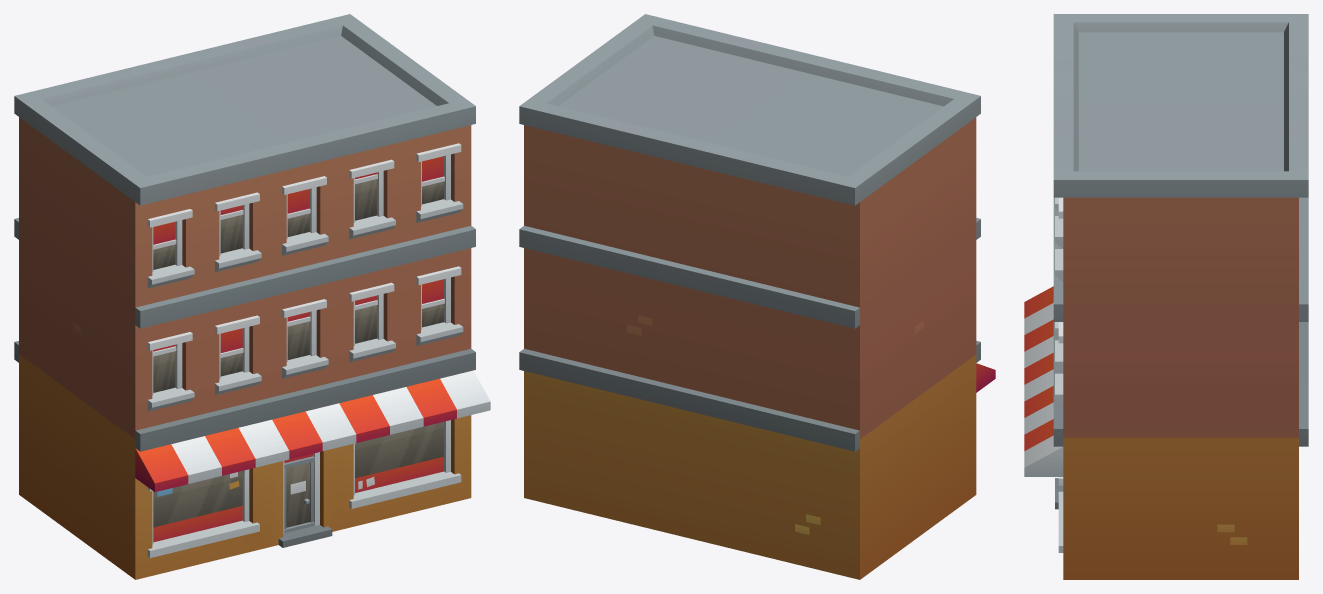
Rendered from building_E_withoutBase.glb.
The picture shows the model from 3 angles, left to right: view 1: azimuth 30°, elevation 25°; view 2: azimuth 150°, elevation 25°; view 3: azimuth 270°, elevation 25°; orthographic projection.
Parts seen in each view (by area): view 1: building_E_withoutBase; view 2: building_E_withoutBase; view 3: building_E_withoutBase.
Part boxes in pixels (x1,y1,x2,y2): building_E_withoutBase: (14,14,490,579); building_E_withoutBase: (519,14,995,579); building_E_withoutBase: (1024,14,1308,579).
Size of the model in its own units: 2.01 by 2.25 by 1.45.
Materials: 1 (1 with a texture image).
